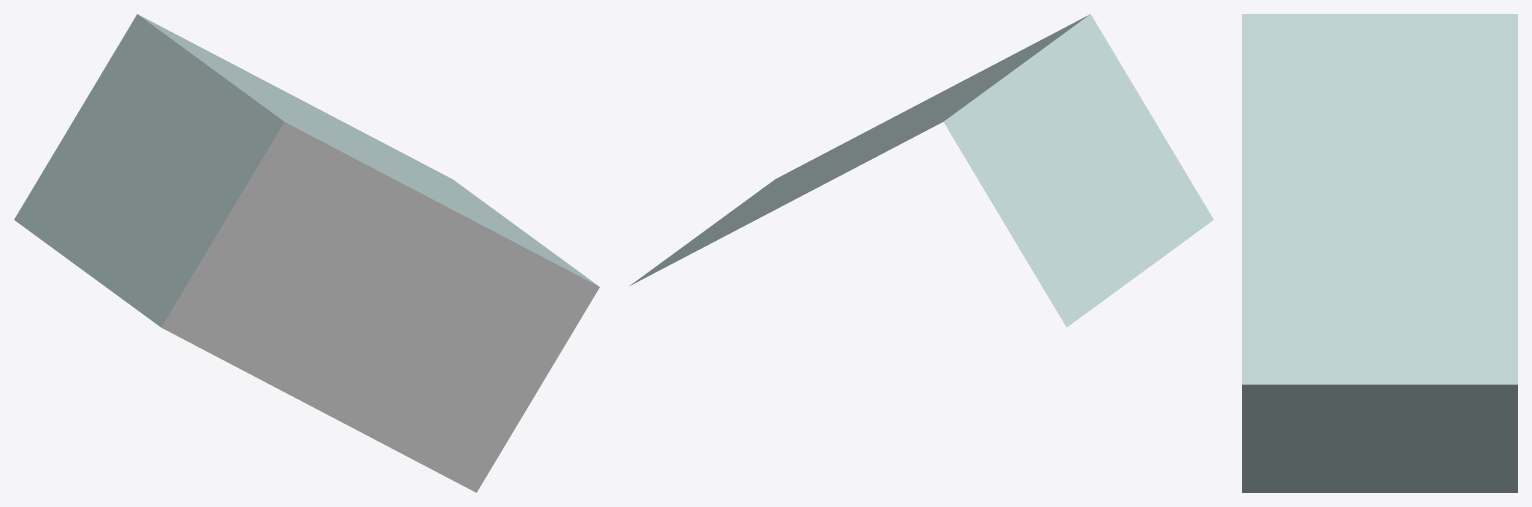
The picture shows the model from 3 angles, left to right: view 1: azimuth 30°, elevation 25°; view 2: azimuth 150°, elevation 25°; view 3: azimuth 270°, elevation 25°; orthographic projection. The views are drawn at different scales.
Parts seen in each view (by area): view 1: 0_2_3_3_3_1_2_0_2; view 2: 0_2_3_3_3_1_2_0_2; view 3: 0_2_3_3_3_1_2_0_2.
Boxes of the visible parts, x1,y1,x2,y2 form: 0_2_3_3_3_1_2_0_2: (14,14,599,492); 0_2_3_3_3_1_2_0_2: (630,14,1213,327); 0_2_3_3_3_1_2_0_2: (1242,14,1517,492).
Size of the model in its own units: 5.16 by 4.7 by 3.
